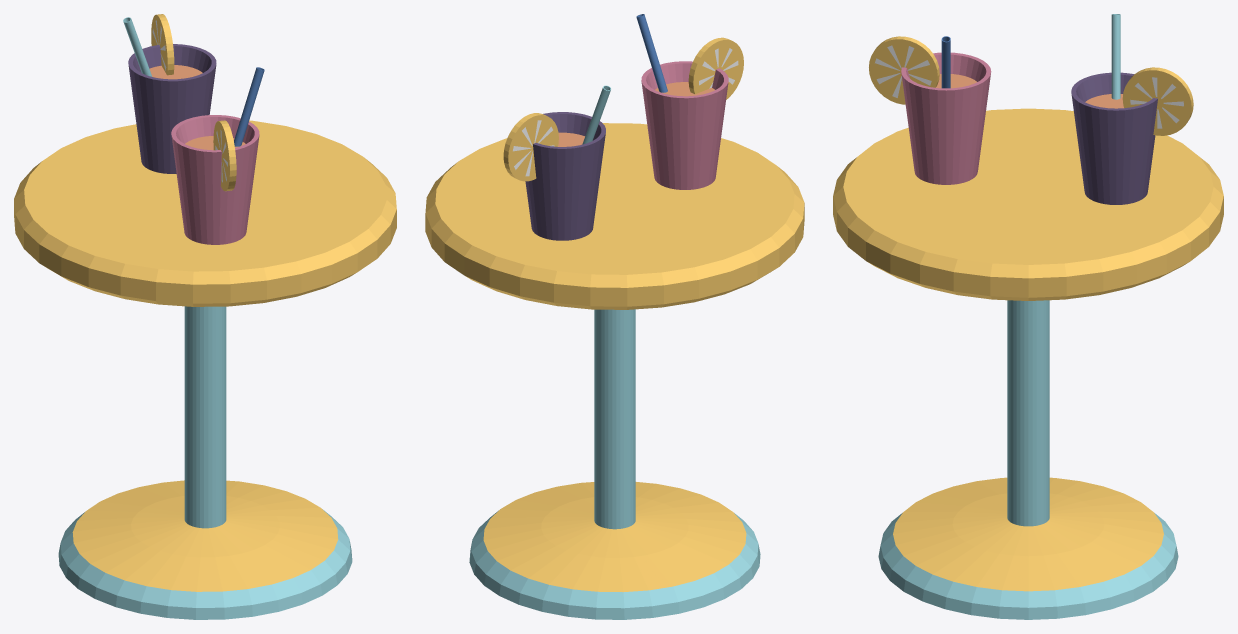
File: coffee_table_nearsunbed_garden.fbx
3 renders of one model, left to right at view 1: azimuth 30°, elevation 25°; view 2: azimuth 150°, elevation 25°; view 3: azimuth 270°, elevation 25°, orthographic. The views are drawn at different scales.
Visible parts, largest first — view 1: coffee_table_nearsunbed_garden, Cylinder.056, Cylinder.058, Cylinder.034, Cylinder.059, Cylinder.060; view 2: coffee_table_nearsunbed_garden, Cylinder.056, Cylinder.058, Cylinder.034, Cylinder.059, Cylinder.057, Cylinder.060; view 3: coffee_table_nearsunbed_garden, Cylinder.056, Cylinder.058, Cylinder.034, Cylinder.057, Cylinder.059.
Part boxes in pixels (x1,y1,x2,y2): coffee_table_nearsunbed_garden: (14, 14, 396, 591); Cylinder.056: (58, 17, 352, 619); Cylinder.058: (171, 115, 259, 244); Cylinder.034: (128, 44, 216, 173); Cylinder.059: (149, 65, 245, 150); Cylinder.060: (234, 67, 264, 146); coffee_table_nearsunbed_garden: (425, 37, 804, 592); Cylinder.056: (469, 85, 760, 619); Cylinder.058: (641, 61, 728, 189); Cylinder.034: (525, 112, 605, 240); Cylinder.059: (558, 82, 714, 146); Cylinder.057: (513, 48, 738, 176); Cylinder.060: (636, 14, 667, 92); coffee_table_nearsunbed_garden: (833, 36, 1223, 591); Cylinder.056: (878, 14, 1178, 619); Cylinder.058: (901, 52, 991, 184); Cylinder.034: (1071, 72, 1157, 204); Cylinder.057: (875, 45, 1183, 128); Cylinder.059: (936, 74, 1123, 108).
Bounding box in the file's own units: 62 × 92.12 × 62.
